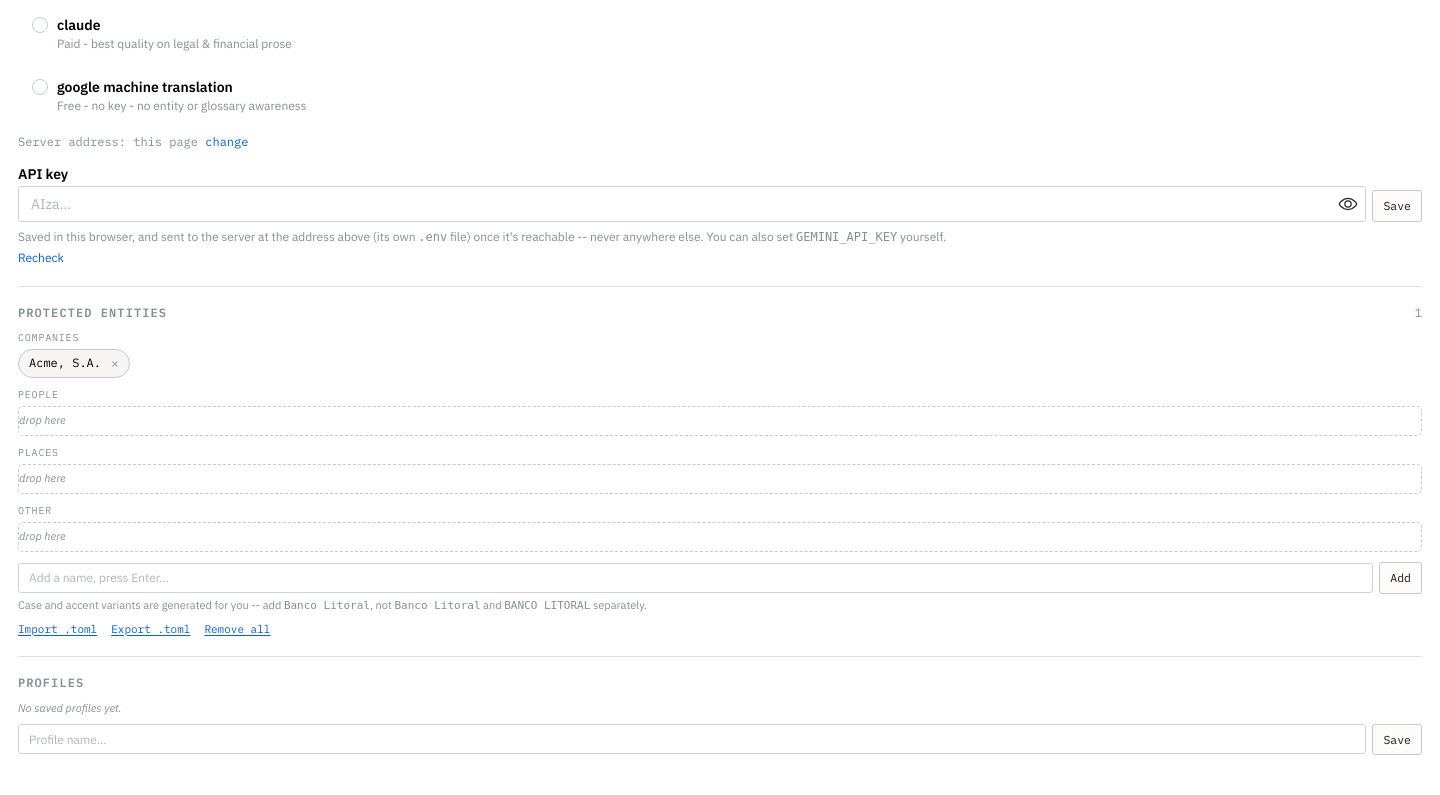
it: entity profiles: save, load, delete › deleting a saved profile removes it from the list
This screenshot has width=1440, height=795.
(page scrolled)
Expected: the text "Acme, S.A." is shown, [29, 354, 101, 373]
Type "Deal A" into the field with placeholder "Profile name..." at (692, 739), box [18, 724, 1366, 754]
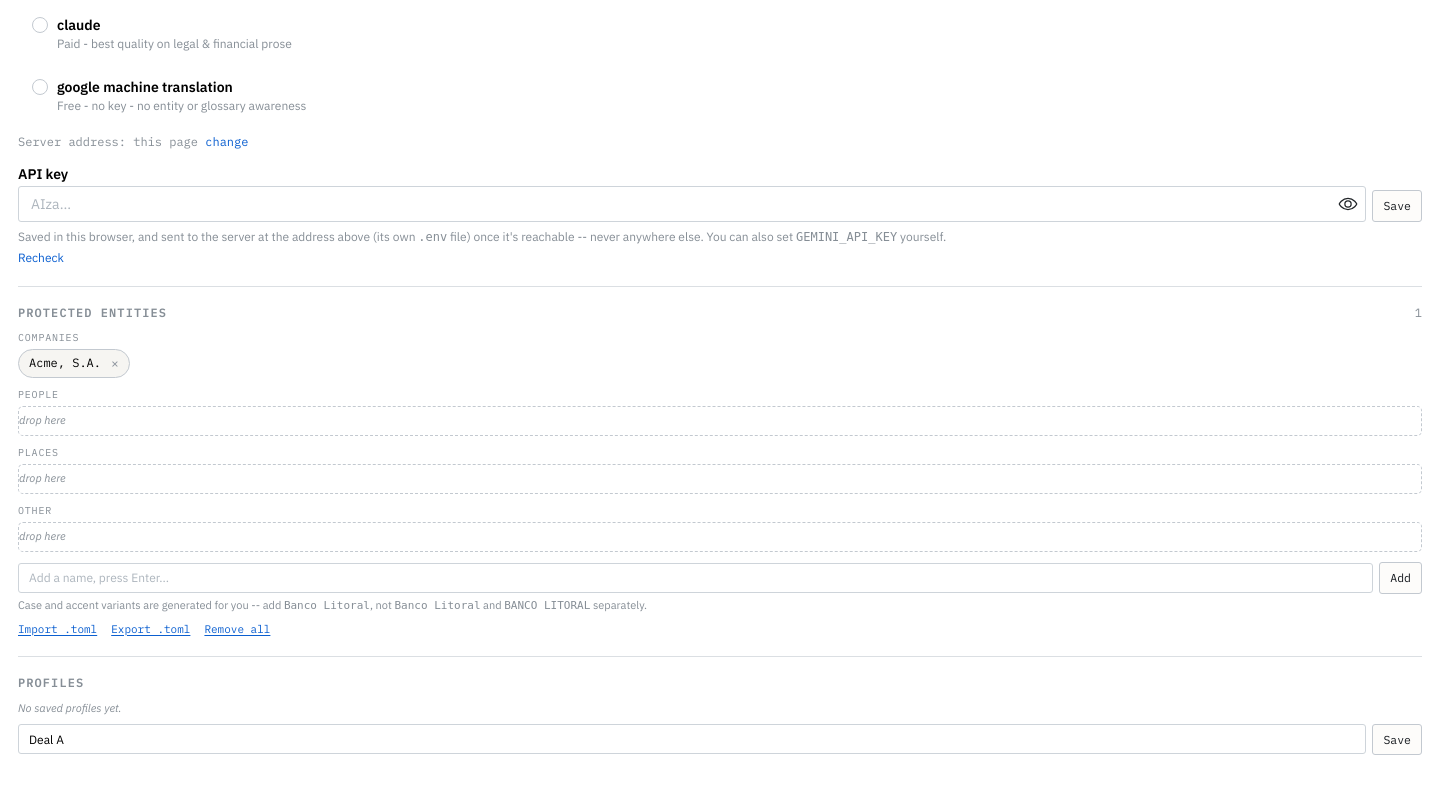
Click the button with aria-label "Save profile" at (1397, 739), box [1372, 724, 1422, 755]
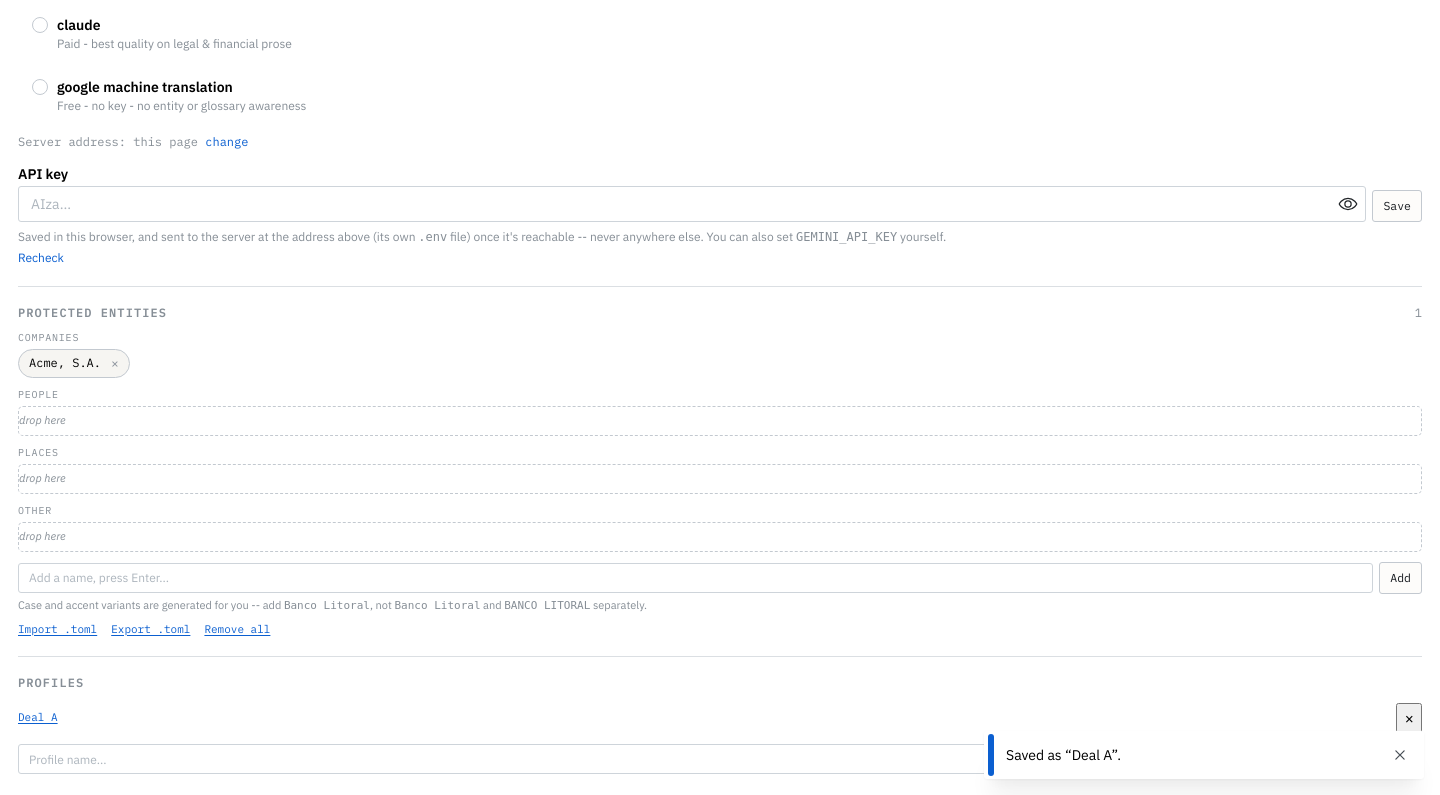
Expected: the button with aria-label "load profile: deal a" is shown, [18, 709, 58, 726]
Click the button named "delete profile: deal a" at (1409, 718), box [1396, 702, 1422, 733]
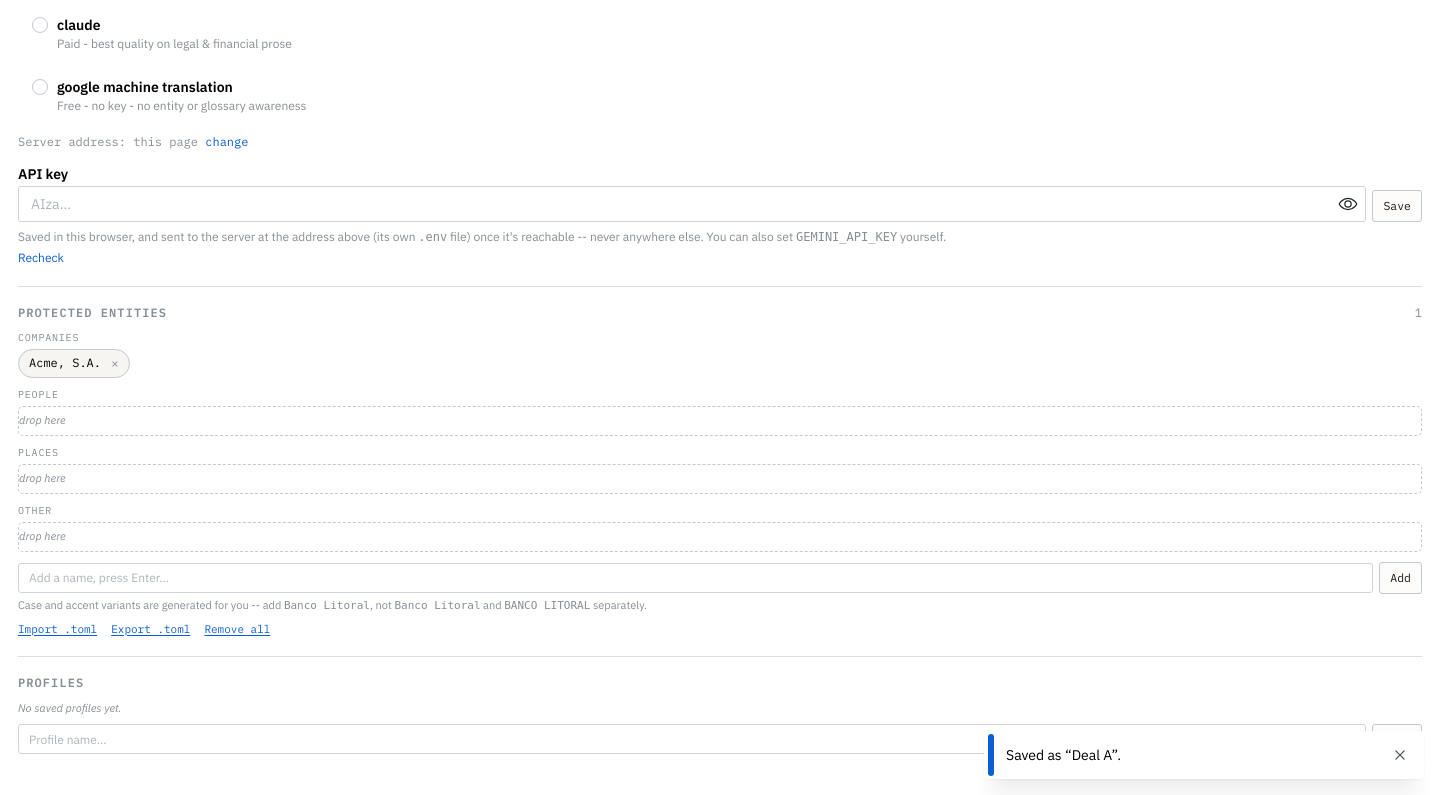
Expected: the text "No saved profiles yet." is shown, [18, 700, 122, 714]
